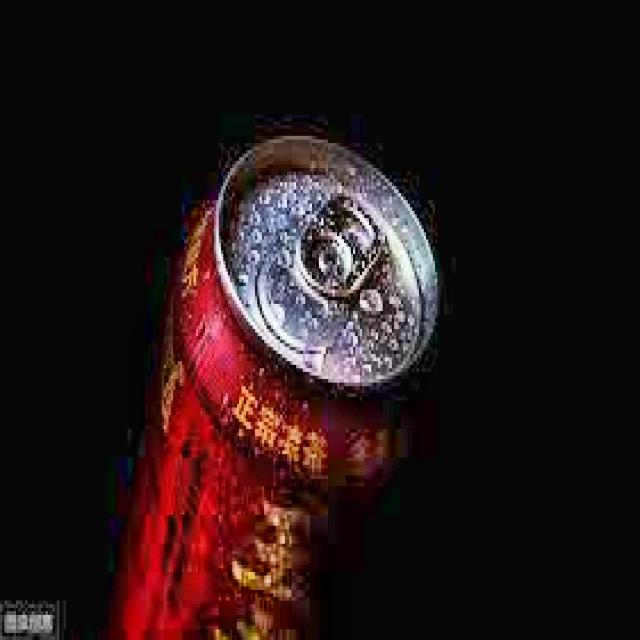can: (107, 118, 446, 640)
